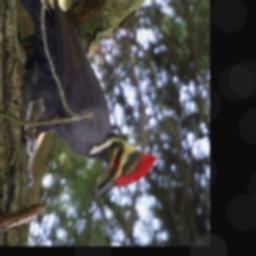Woodpecker: (8, 0, 159, 200)
